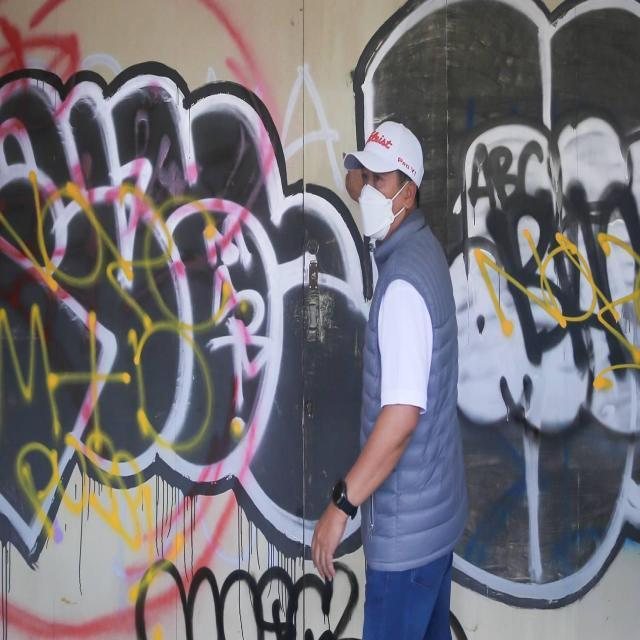nonspitting: (0, 68, 368, 556), (364, 0, 640, 611), (2, 174, 245, 594), (451, 114, 640, 439), (134, 556, 359, 640)
